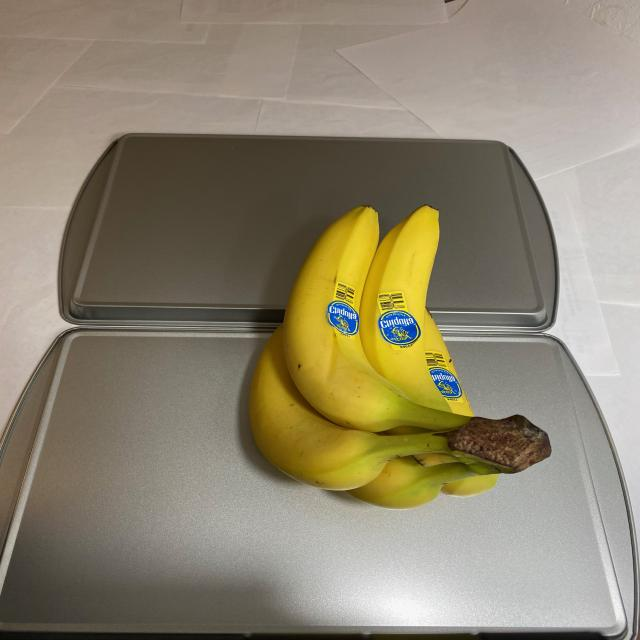banana: (242, 200, 555, 508)
